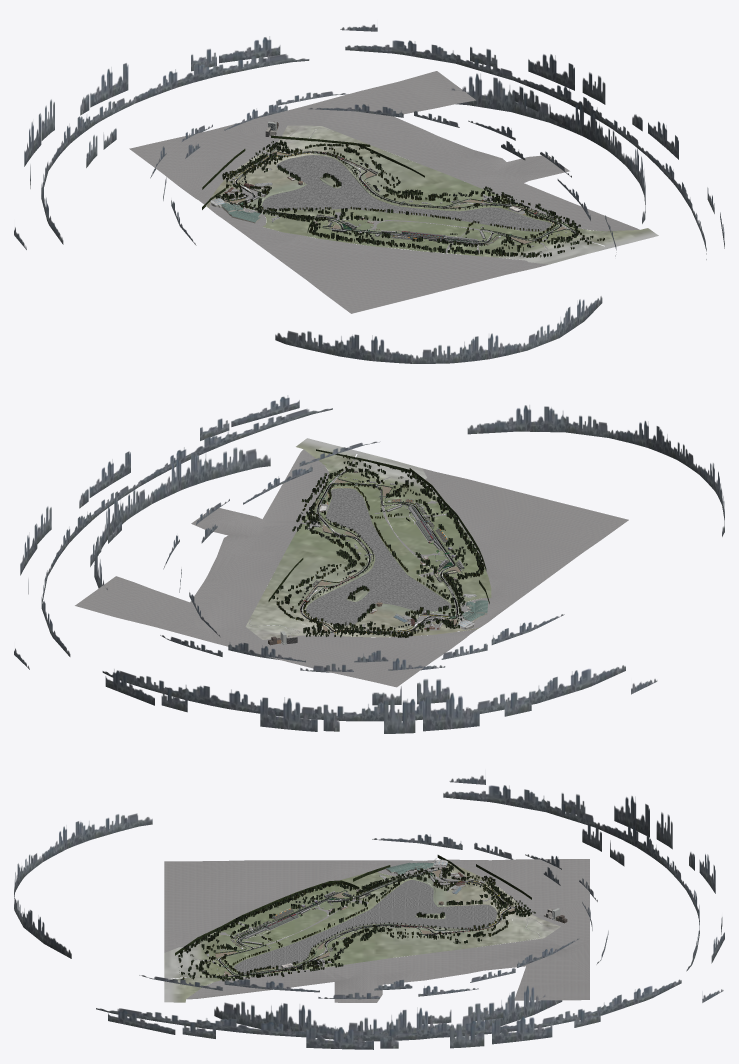
Rendered from melbourne.glb.
The picture shows the model from 3 angles, top to bottom: view 1: azimuth 30°, elevation 25°; view 2: azimuth 150°, elevation 25°; view 3: azimuth 270°, elevation 25°; orthographic projection. The views are drawn at different scales.
Parts seen in each view (by area): view 1: melbourne_2018, Object_45; view 2: melbourne_2018, Object_45; view 3: melbourne_2018, Object_45.
Part boxes in pixels (x1,y1,x2,y2): melbourne_2018: [129, 71, 658, 313]; Object_45: [14, 24, 724, 363]; melbourne_2018: [75, 438, 628, 687]; Object_45: [14, 395, 724, 733]; melbourne_2018: [164, 855, 589, 1002]; Object_45: [14, 775, 724, 1049].
Size of the model in its own units: 3870 by 330 by 4277.
185 materials, 184 textured.
